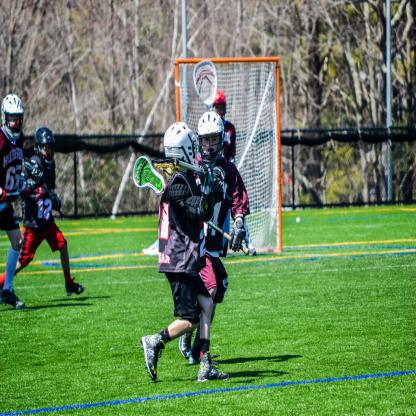Helmet: (161, 122, 201, 174), (194, 107, 227, 160), (0, 91, 23, 144), (34, 126, 56, 168), (212, 92, 226, 120)
